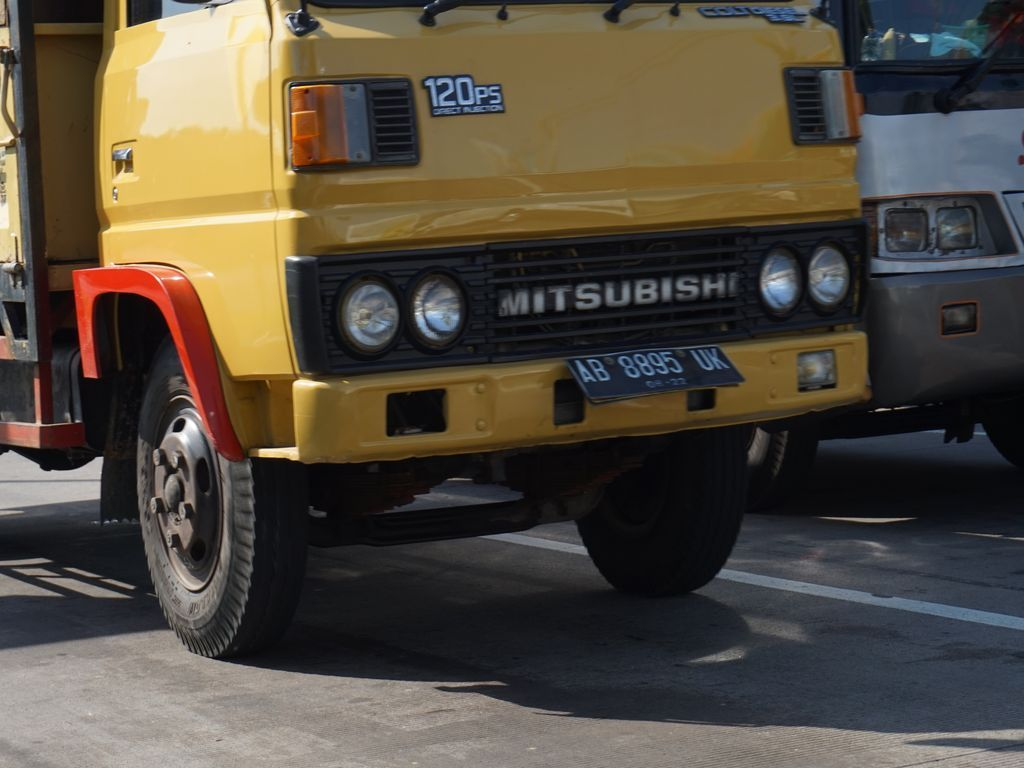plate: (574, 348, 735, 387)
